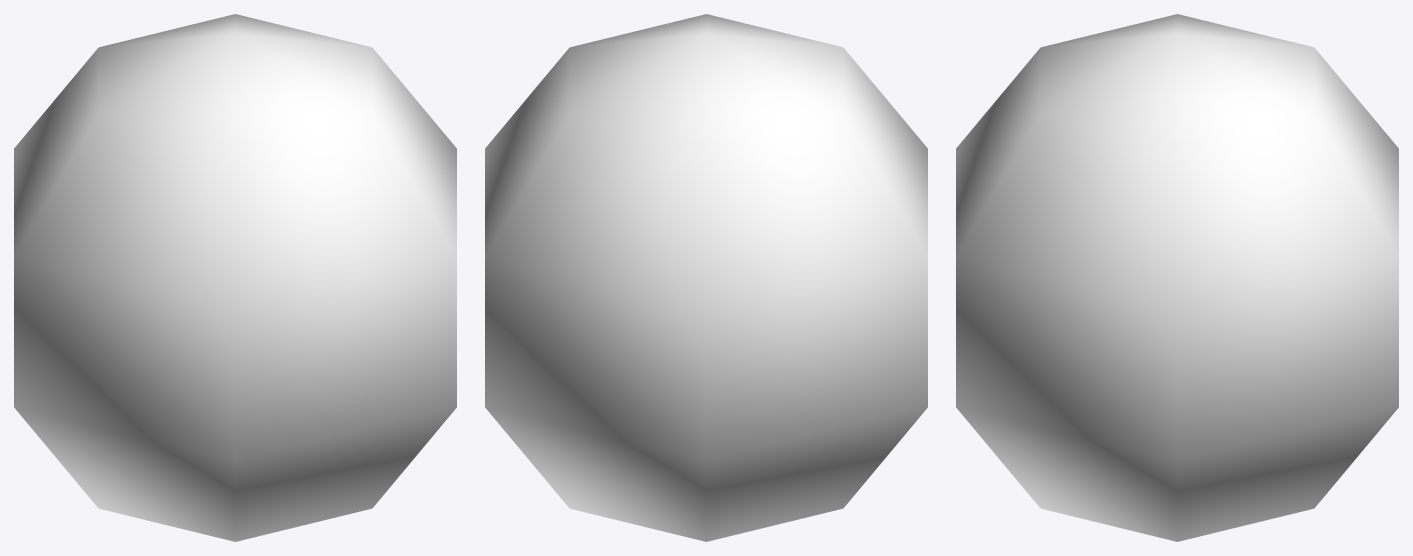
Rendered from cannon-ball.glb.
3 renders of one model, left to right at view 1: azimuth 30°, elevation 25°; view 2: azimuth 150°, elevation 25°; view 3: azimuth 270°, elevation 25°, orthographic.
Parts seen in each view (by area): view 1: cannon-ball; view 2: cannon-ball; view 3: cannon-ball.
Part boxes in pixels (x1,y1,x2,y2): cannon-ball: [14, 14, 456, 541]; cannon-ball: [485, 14, 927, 541]; cannon-ball: [956, 14, 1398, 541].
Size of the model in its own units: 0.6372 by 0.67 by 0.5518.
Materials: 1 (1 with a texture image).
